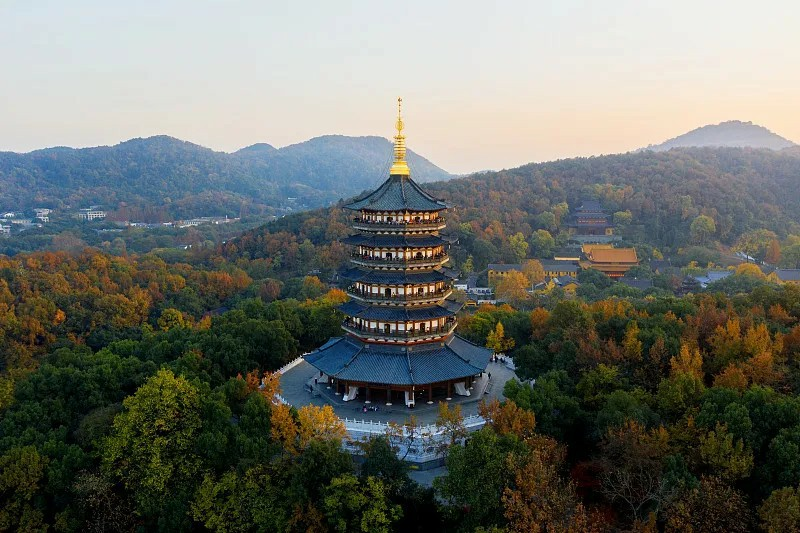Leifeng: (303, 95, 496, 411)
